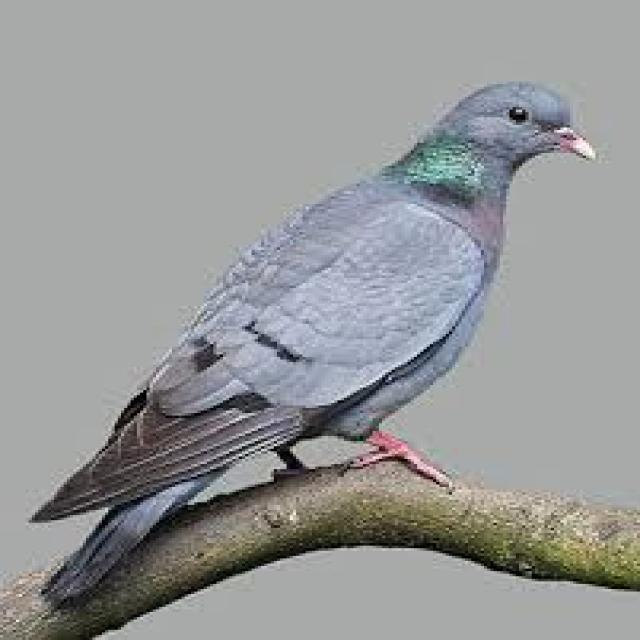pigeon: (11, 58, 634, 604)
